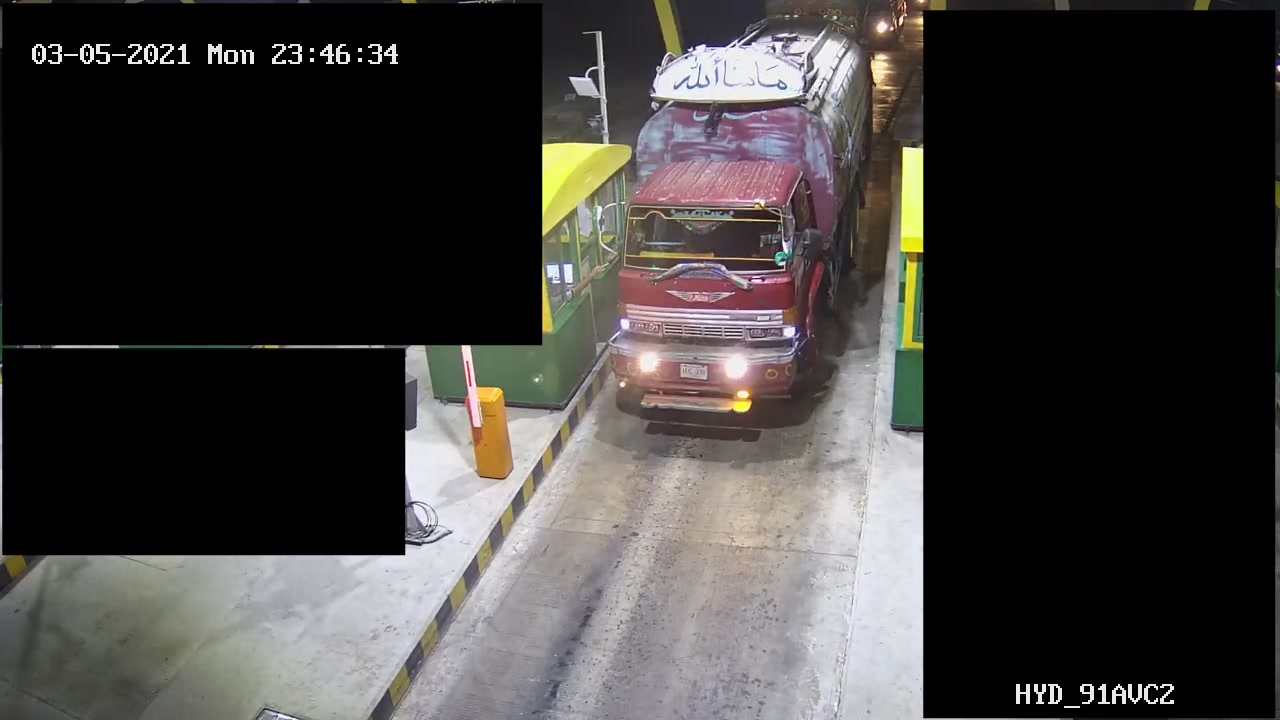F6: (603, 18, 888, 426)
